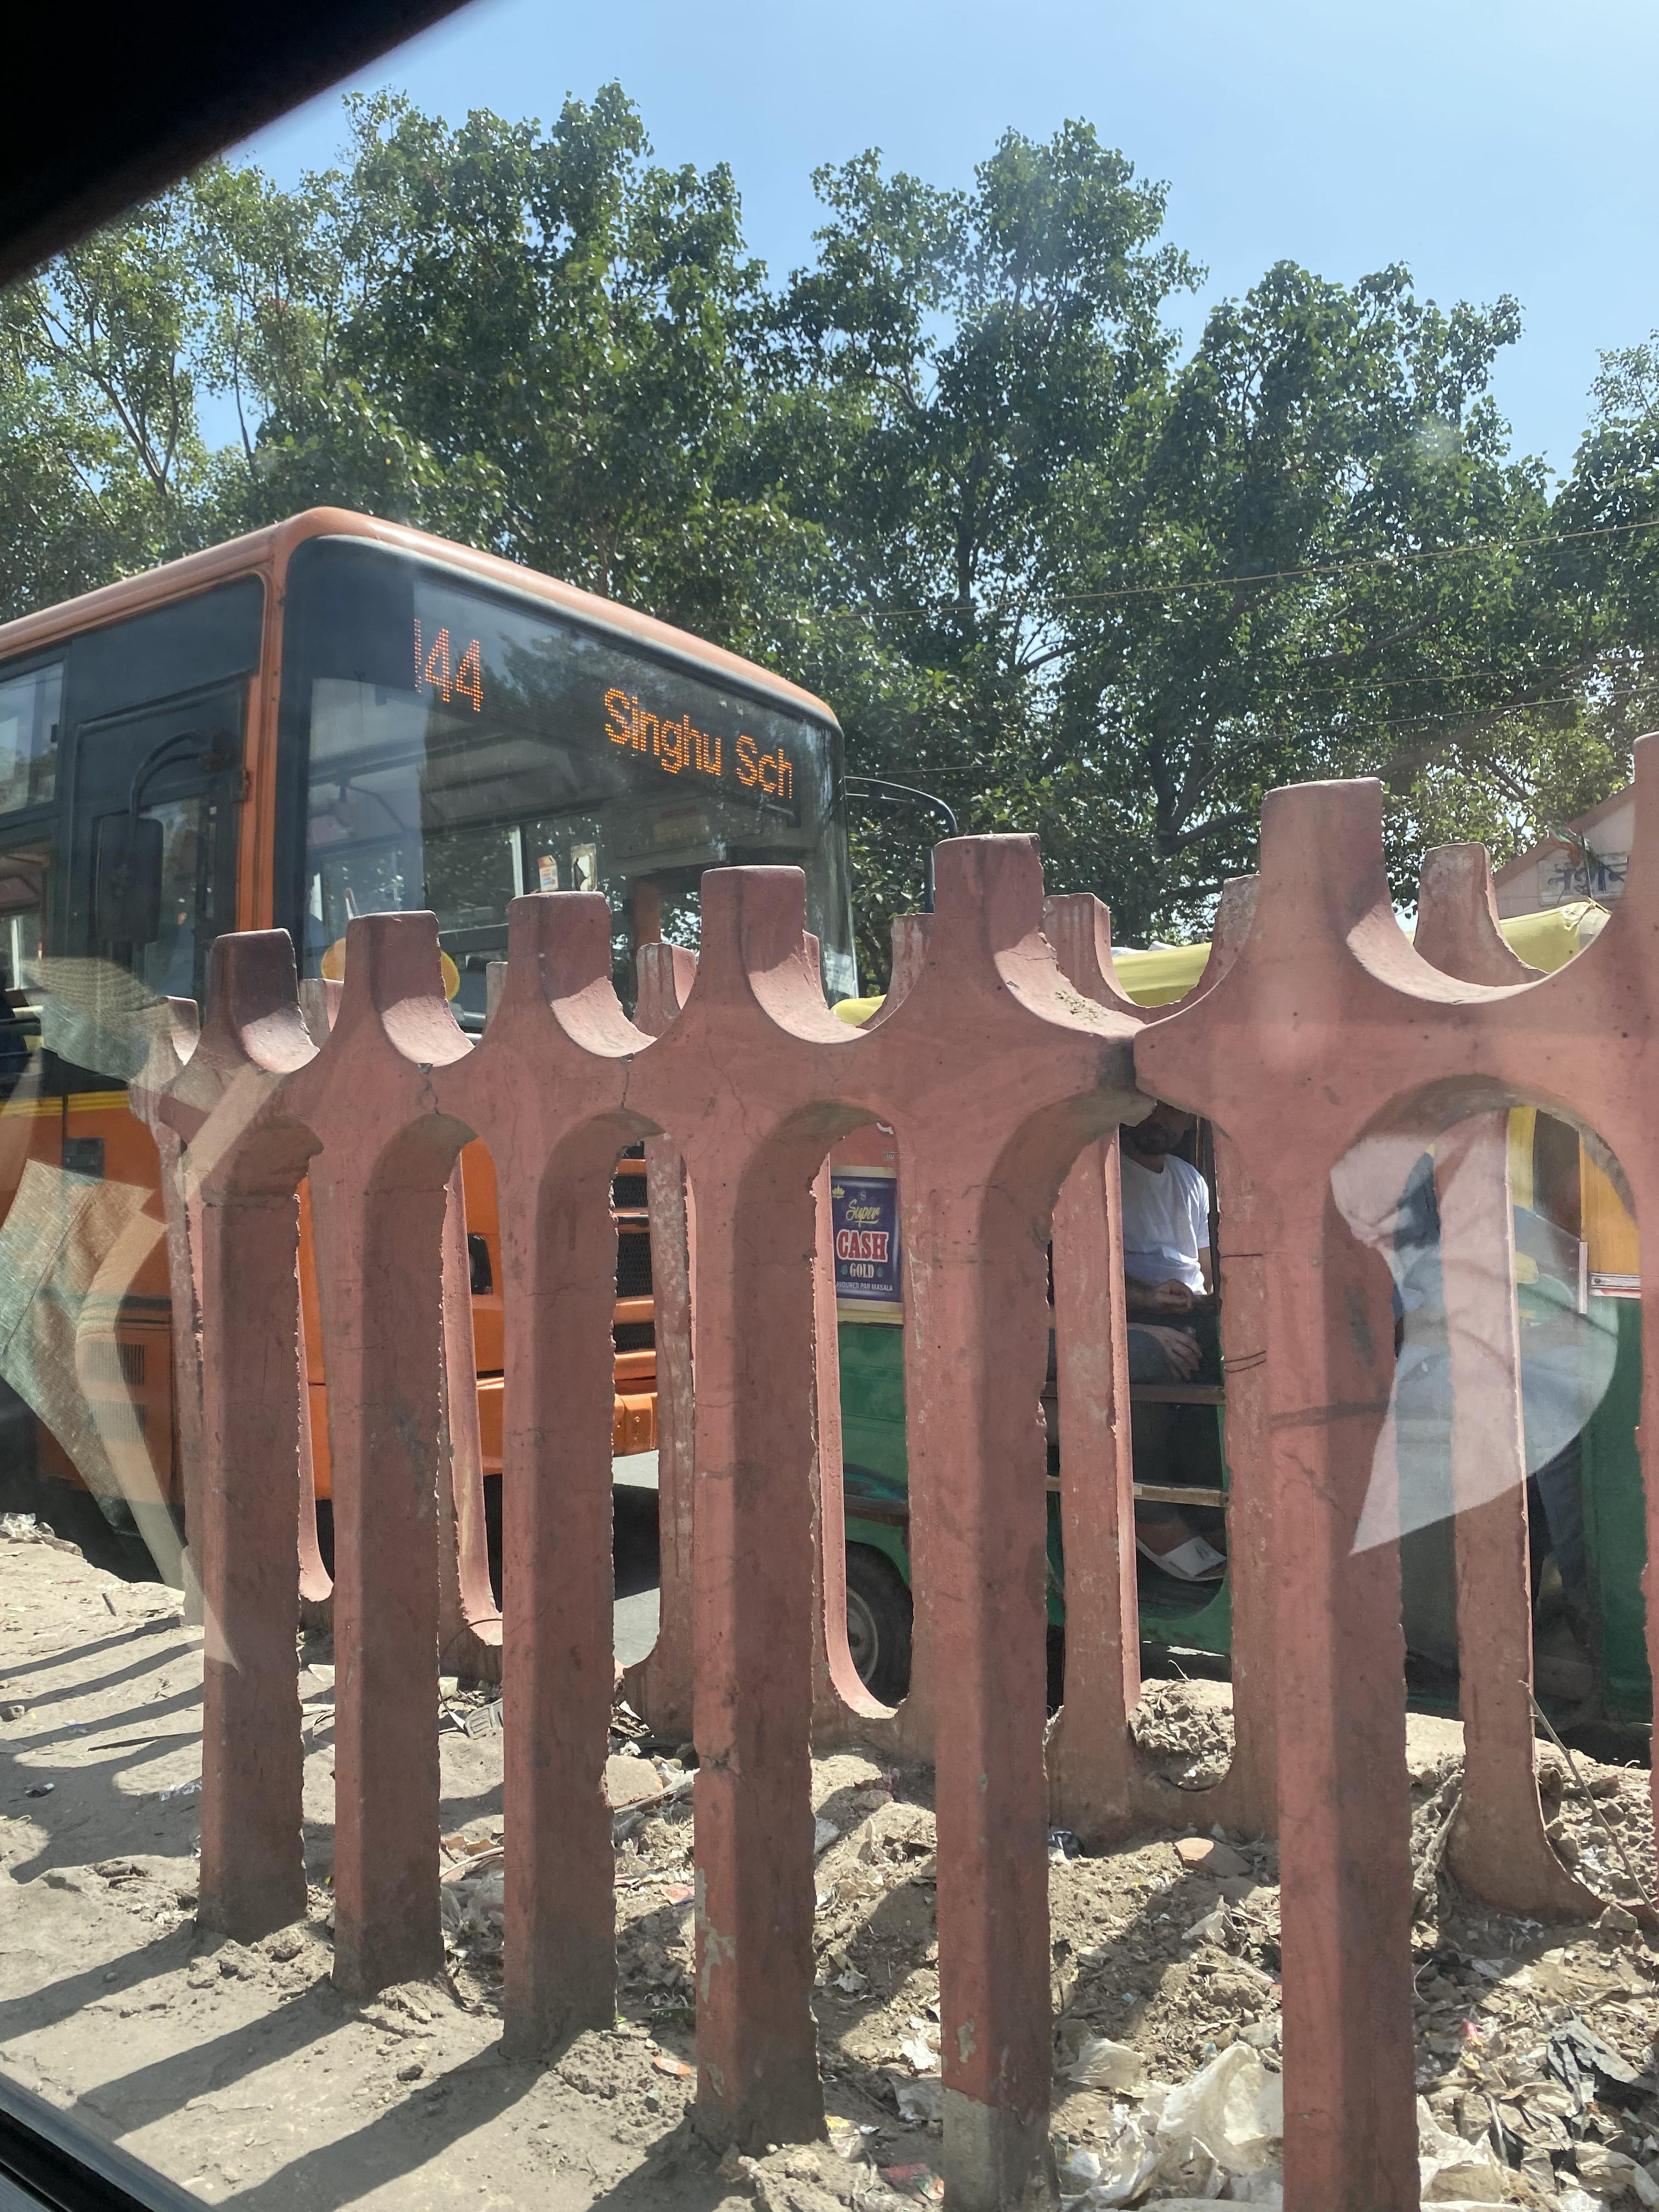Bus: (242, 462, 927, 1158)
Display Board: (291, 597, 917, 822)
